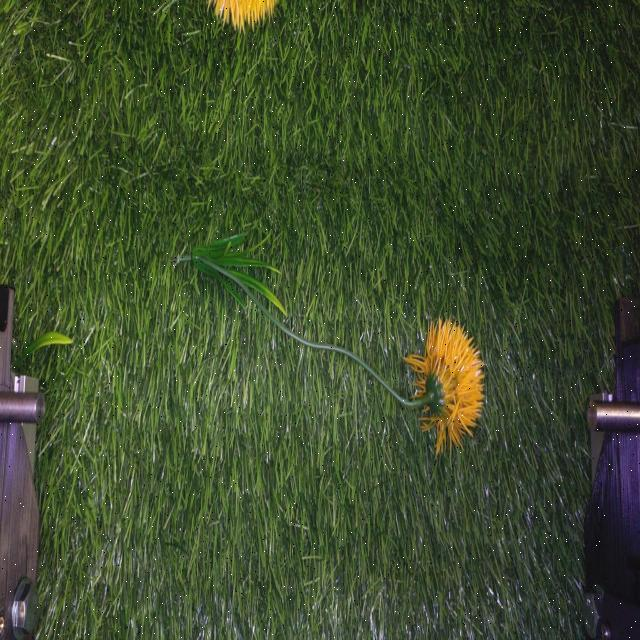dandelion: (0, 0, 640, 239)
